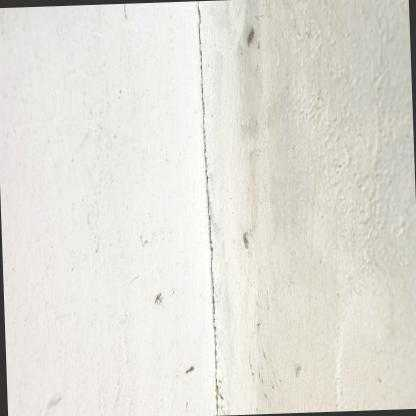crack: (197, 0, 217, 416)
